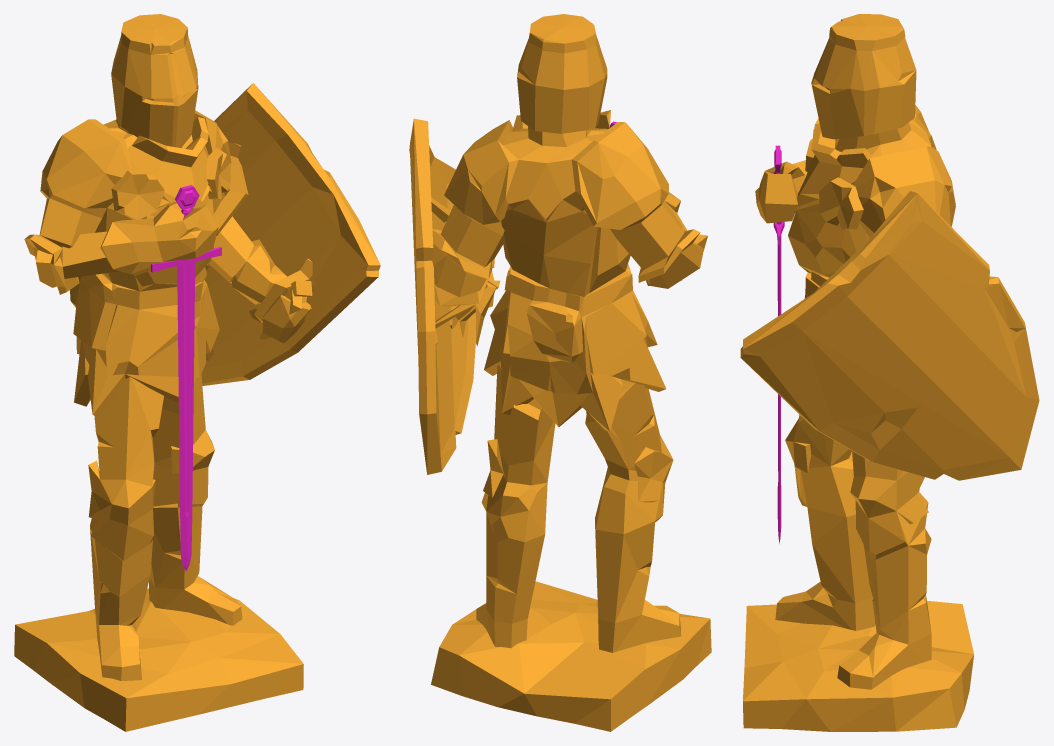
File: SM_Statue_Knight_Standing_Fantasy.fbx
3 renders of one model, left to right at view 1: azimuth 30°, elevation 25°; view 2: azimuth 150°, elevation 25°; view 3: azimuth 270°, elevation 25°, orthographic. The views are drawn at different scales.
Visible parts, largest first — view 1: SM_Statue_Knight_Standing_Fantasy; view 2: SM_Statue_Knight_Standing_Fantasy; view 3: SM_Statue_Knight_Standing_Fantasy.
Boxes of the visible parts, x1,y1,x2,y2 form: SM_Statue_Knight_Standing_Fantasy: (14, 14, 380, 731); SM_Statue_Knight_Standing_Fantasy: (409, 14, 711, 731); SM_Statue_Knight_Standing_Fantasy: (740, 14, 1039, 731).
Size of the model in its own units: 0.9539 by 1.95 by 0.8049.
